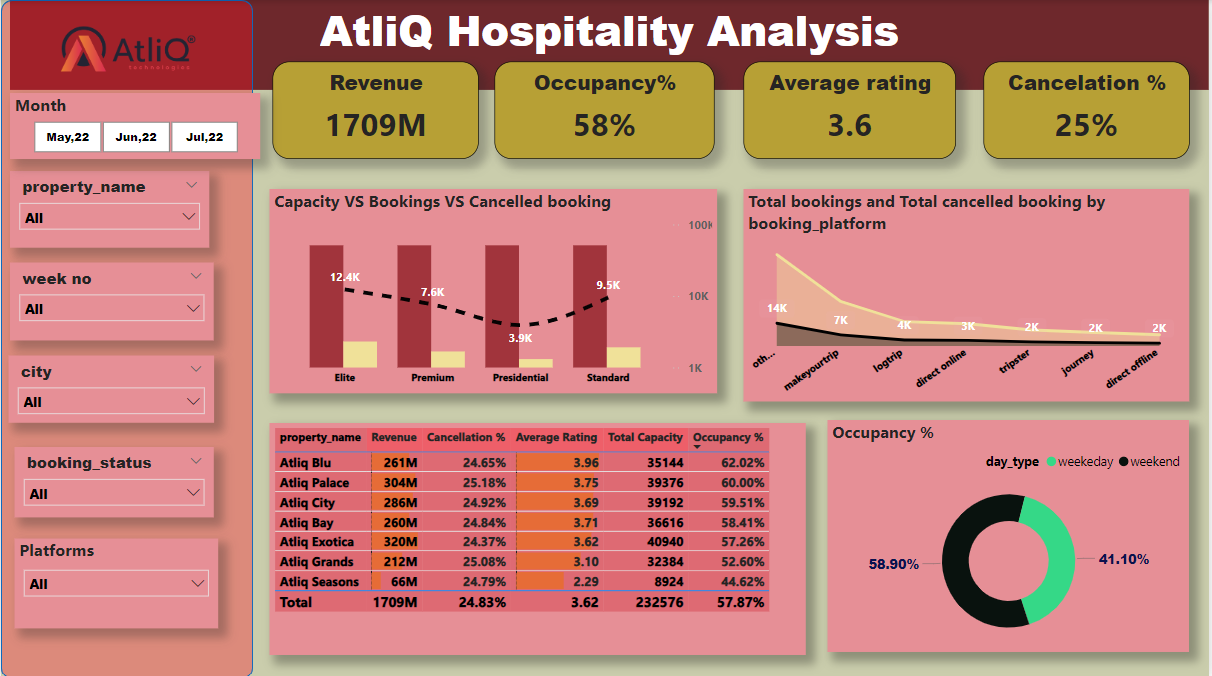

This screenshot's page, from the dashboard's own definition file:
{"tool":"powerbi","page":{"name":"Page 2","canvas":[1280,720],"ordinal":1},"visuals":[{"type":"shape","box":[9.7,0,1271.1,95.5],"z":0},{"type":"shape","box":[0,0,267.2,720.6],"z":1000},{"type":"card","title":"Average rating ","fields":{"Values":["key_measures.Average Rating"]},"box":[786.9,64.8,225.1,103.6],"z":2000},{"type":"card","title":"Revenue","fields":{"Values":["key_measures.Revenue"]},"box":[288.2,64.8,218.6,103.6],"z":3000},{"type":"card","title":"Occupancy%","fields":{"Values":["key_measures.Occupancy %"]},"box":[523,64.8,233.2,103.6],"z":4000},{"type":"card","title":"Cancelation %","fields":{"Values":["key_measures.Cancellation %"]},"box":[1041.2,64.8,218.6,103.6],"z":5000},{"type":"slicer","fields":{"Values":["dim_hotels.property_name"]},"box":[9.5,181.3,211.6,81.1],"z":6000},{"type":"slicer","title":"Month","fields":{"Values":["dim_date.mmm yy"]},"box":[9.5,98.6,265.6,70],"z":7000},{"type":"slicer","fields":{"Values":["dim_date.week no"]},"box":[9.5,278.4,216.3,82.7],"z":8000},{"type":"slicer","fields":{"Values":["dim_hotels.city"]},"box":[8,377,217.9,71.6],"z":9000},{"type":"slicer","fields":{"Values":["fact_bookings.booking_status"]},"box":[14.3,474,211.6,74.8],"z":10000},{"type":"lineClusteredColumnComboChart","title":" Capacity VS Bookings VS Cancelled booking ","fields":{"Category":["dim_rooms.room_class"],"Y2":["key_measures.Total cancelled booking"],"Y":["key_measures.Total Capacity","key_measures.Total bookings"]},"box":[285,200.8,474.4,217],"z":11000},{"type":"tableEx","fields":{"Values":["dim_hotels.property_name","key_measures.Revenue","key_measures.Cancellation %","key_measures.Average Rating","key_measures.Total Capacity","key_measures.Occupancy %"]},"box":[285.4,447.9,568.8,245.7],"z":12000},{"type":"areaChart","fields":{"Category":["fact_bookings.booking_platform"],"Y":["key_measures.Total bookings","key_measures.Total cancelled booking"]},"box":[786.9,200.8,472.8,225.1],"z":13000},{"type":"slicer","title":"Platforms ","fields":{"Values":["fact_bookings.booking_platform"]},"box":[14.3,571,216.3,95.4],"z":14000},{"type":"donutChart","title":"Occupancy % ","fields":{"Y":["key_measures.Occupancy %"],"Series":["dim_date.day_type"]},"box":[876.9,446,383.6,245.7],"z":15000},{"type":"image","box":[0,0,267.2,108.2],"z":16000}]}

Visuals, with their boxes in screenshot pixels (x1, y1, x2, y2), scaled from the page's 1280x720 canvas onto the 1212x676 screenshot:
shape: crop(9, 0, 1211, 90)
shape: crop(0, 0, 253, 675)
"Average rating " card: crop(745, 61, 958, 158)
"Revenue" card: crop(273, 61, 480, 158)
"Occupancy%" card: crop(495, 61, 716, 158)
"Cancelation %" card: crop(986, 61, 1193, 158)
slicer - dim_hotels.property_name: crop(9, 170, 209, 246)
"Month" slicer: crop(9, 93, 260, 158)
slicer - dim_date.week no: crop(9, 261, 214, 339)
slicer - dim_hotels.city: crop(8, 354, 214, 421)
slicer - fact_bookings.booking_status: crop(14, 445, 214, 515)
" Capacity VS Bookings VS Cancelled booking " lineClusteredColumnComboChart: crop(270, 189, 719, 392)
tableEx - dim_hotels.property_name x key_measures.Revenue: crop(270, 421, 809, 651)
areaChart - fact_bookings.booking_platform x key_measures.Total bookings: crop(745, 189, 1193, 400)
"Platforms " slicer: crop(14, 536, 218, 626)
"Occupancy % " donutChart: crop(830, 419, 1194, 649)
image: crop(0, 0, 253, 102)
